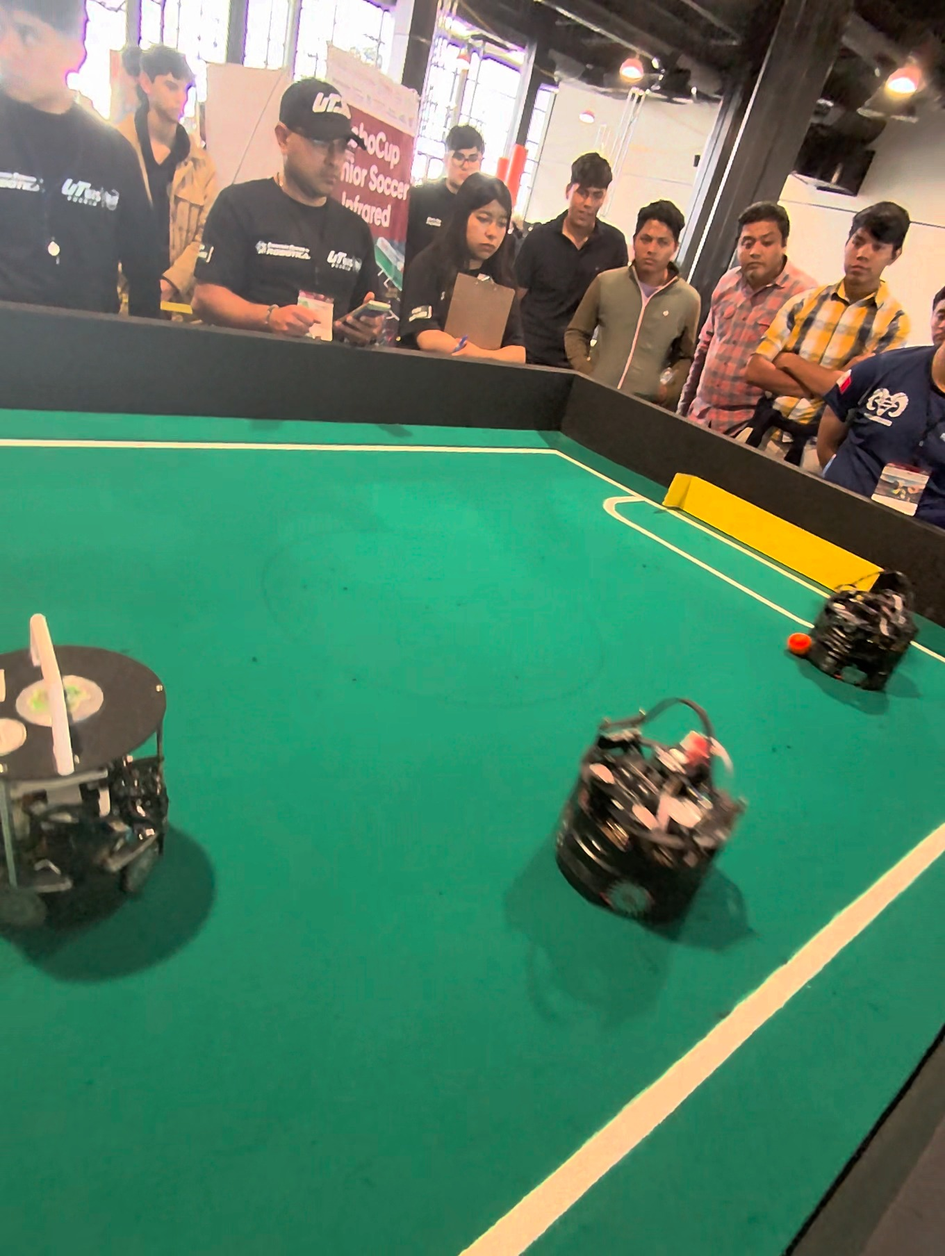Robot: (0, 594, 218, 989), (544, 693, 751, 947), (793, 561, 920, 697)
pelota: (784, 632, 808, 655)
